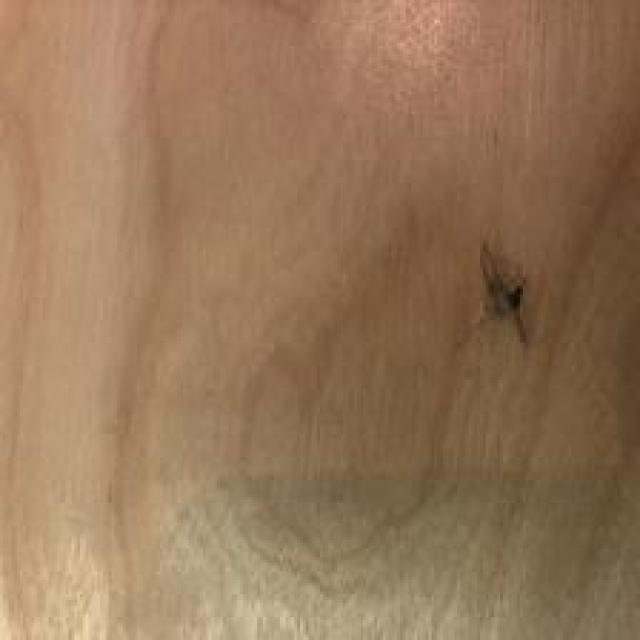Culex: (476, 237, 530, 346)
